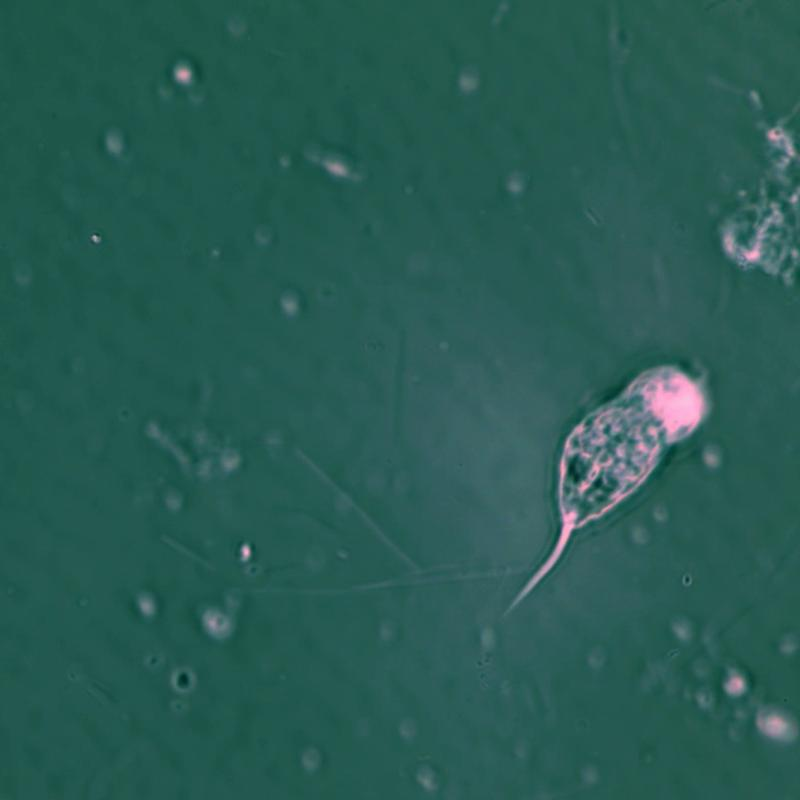depth:0: (495, 340, 737, 645)
